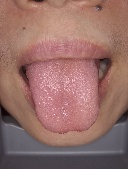tongue: (22, 63, 100, 135)
